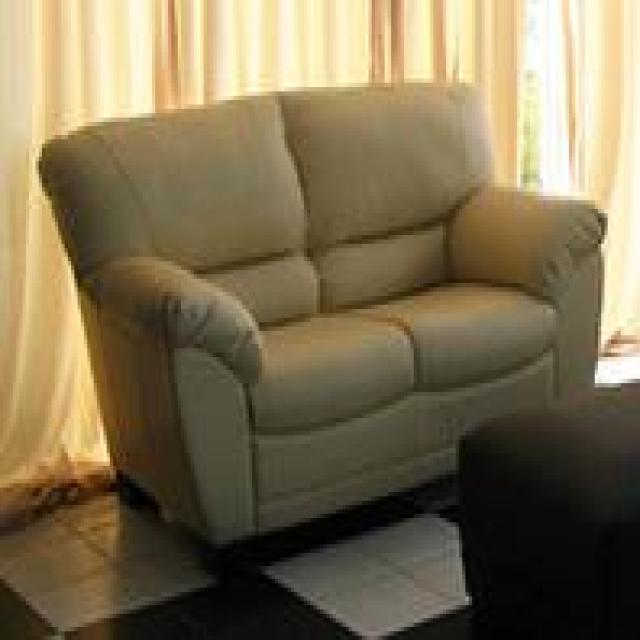sofa: (38, 78, 606, 558)
